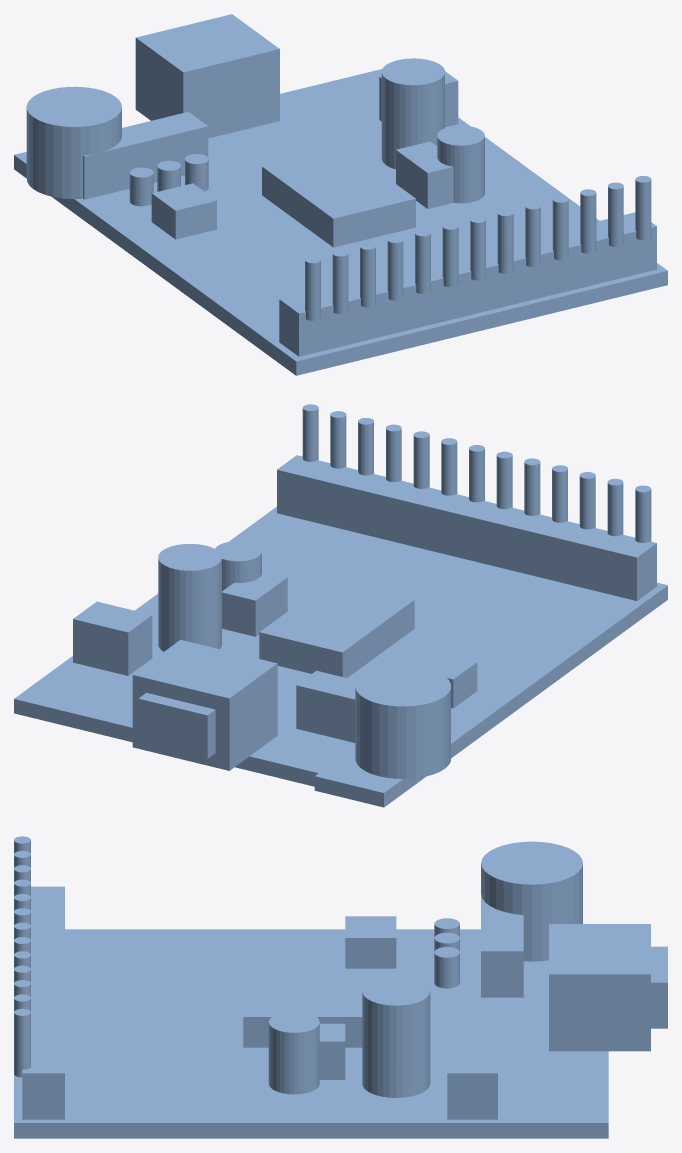
The model's file is arduino.glb.
3 renders of one model, top to bottom at view 1: azimuth 30°, elevation 25°; view 2: azimuth 150°, elevation 25°; view 3: azimuth 270°, elevation 25°, orthographic. The views are drawn at different scales.
Parts seen in each view (by area): view 1: arduino; view 2: arduino; view 3: arduino.
Boxes of the visible parts, bbox=[...] form: arduino: bbox=[14, 14, 667, 375]; arduino: bbox=[14, 404, 667, 807]; arduino: bbox=[14, 836, 667, 1138].
Bounding box in the file's own units: 57 × 15 × 77.
